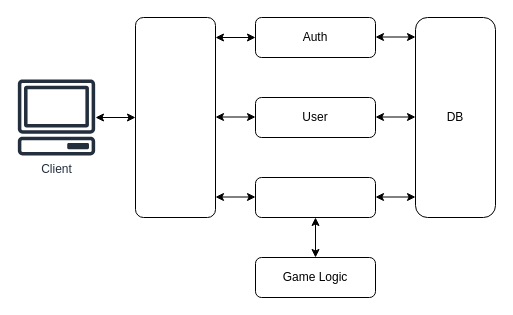
Some shapes in this 513 by 315 pixel diagram are drawn without their labels. The box of each missing label's shape, as (x1, y1, x2, y2) in pixels:
Game Manager: (254, 176, 376, 218)
IO: (134, 16, 216, 218)
